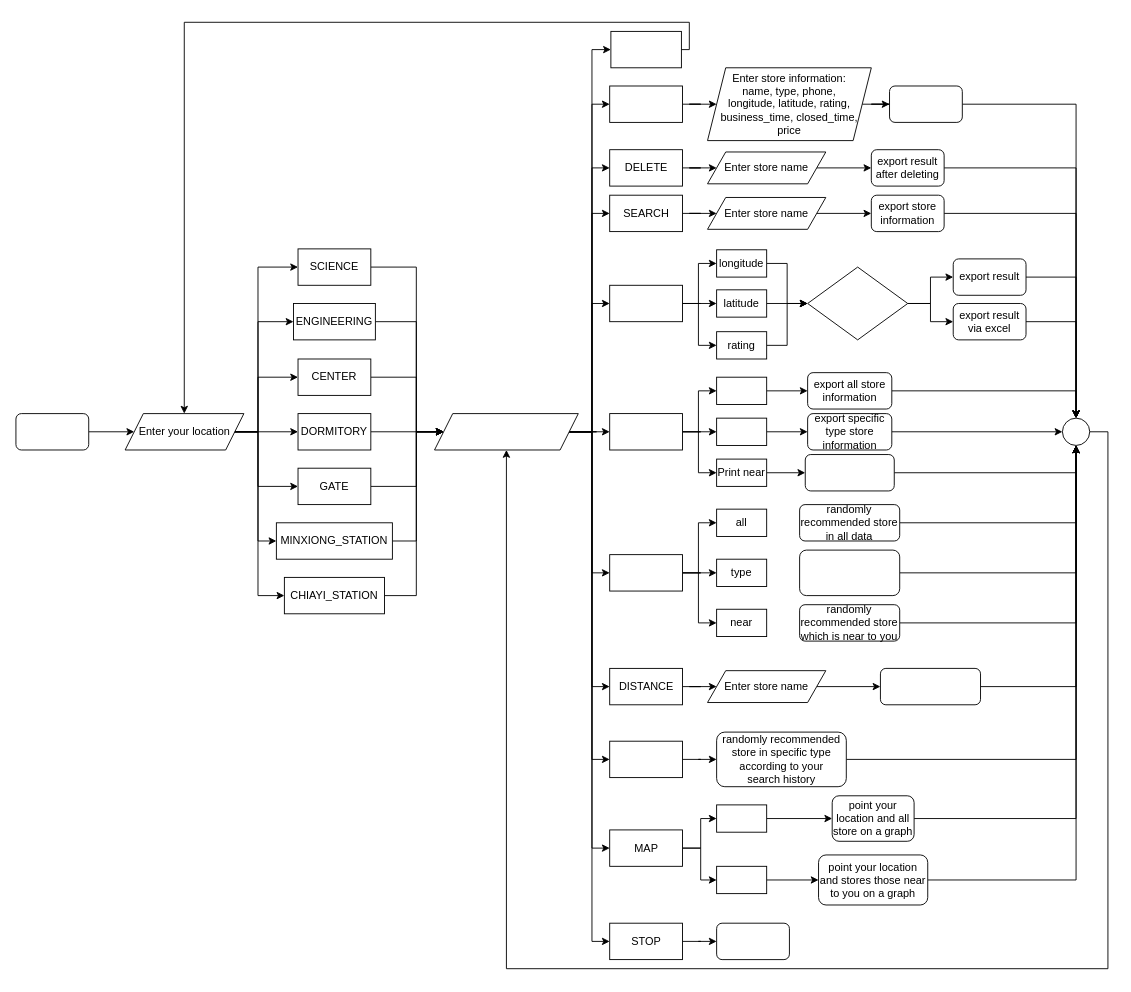
Some shapes in this 1131 by 992 pixel diagram are drawn without their labels. The shapes that lost their labels are listed below. From the top down, each one's centre as x and y in pixels, then its label:
At point (645, 49): "LOCATE".
At point (645, 103): "INSERT".
At point (925, 103): "export result after adding".
At point (645, 303): "SORT".
At point (857, 303): "export to excel?".
At point (741, 390): "Print all".
At point (52, 431): "Start".
At point (506, 431): "what do you want to do?".
At point (645, 431): "PRINT".
At point (741, 431): "Print type".
At point (849, 472): "export store information which near to you".
At point (645, 572): "RANDOM".
At point (849, 572): "randomly recommended store in specific type".
At point (930, 686): "compute the distance between the store and you".
At point (645, 759): "MY_HABIT".
At point (741, 818): "map all".
At point (741, 879): "map near".
At point (752, 941): "End".
